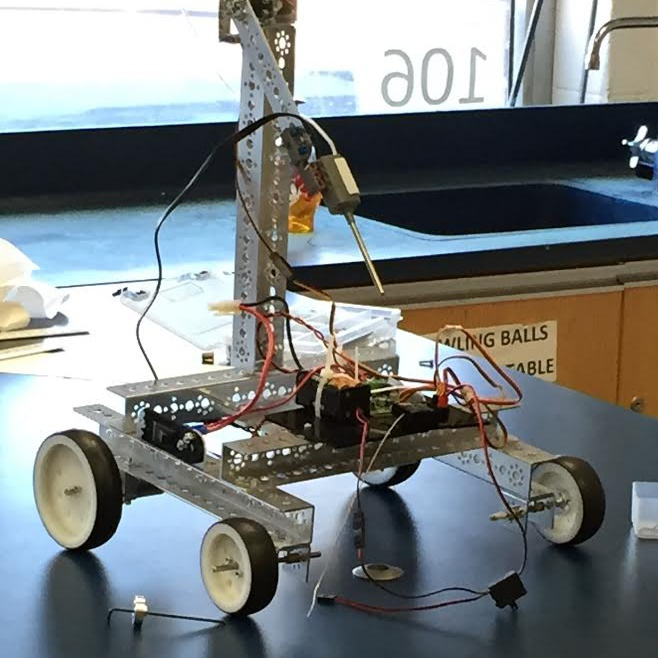robot: (22, 0, 612, 620)
